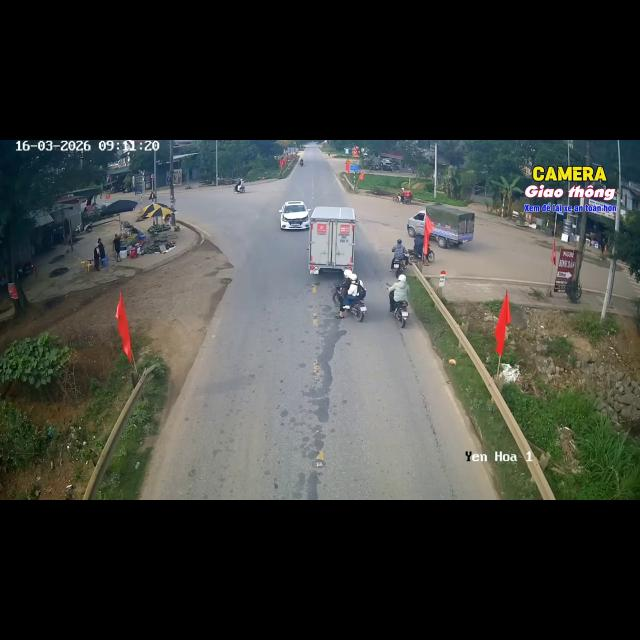car: (280, 201, 310, 229), (407, 211, 425, 237)
motorcycle: (347, 300, 366, 321), (393, 302, 408, 327), (392, 190, 412, 204), (393, 259, 405, 277), (75, 222, 92, 234), (408, 250, 421, 262), (234, 186, 244, 193), (300, 160, 303, 166)
truck: (309, 207, 355, 274), (407, 205, 474, 248)
